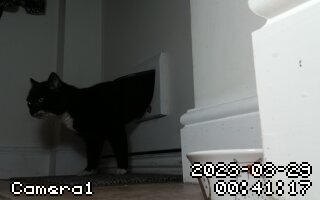bad: (19, 65, 171, 178)
